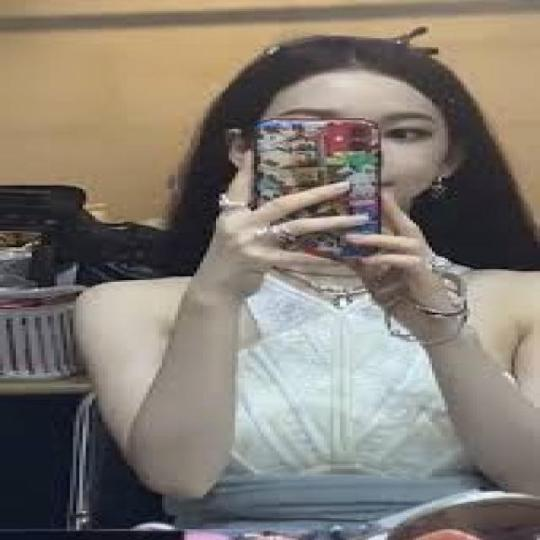phone: (254, 118, 381, 262)
